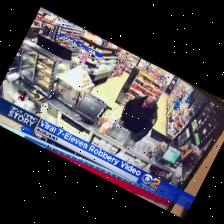person: (119, 96, 158, 144), (173, 96, 182, 110)
